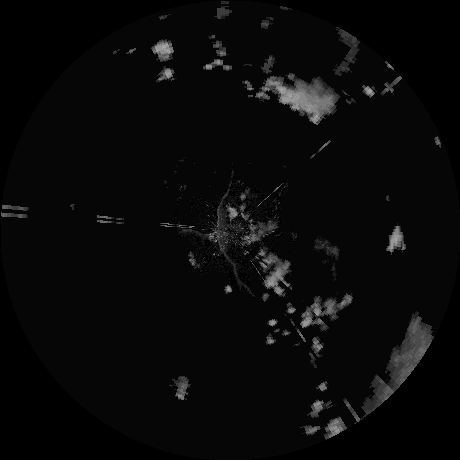frontgust: (221, 248, 249, 293), (216, 189, 227, 244)
